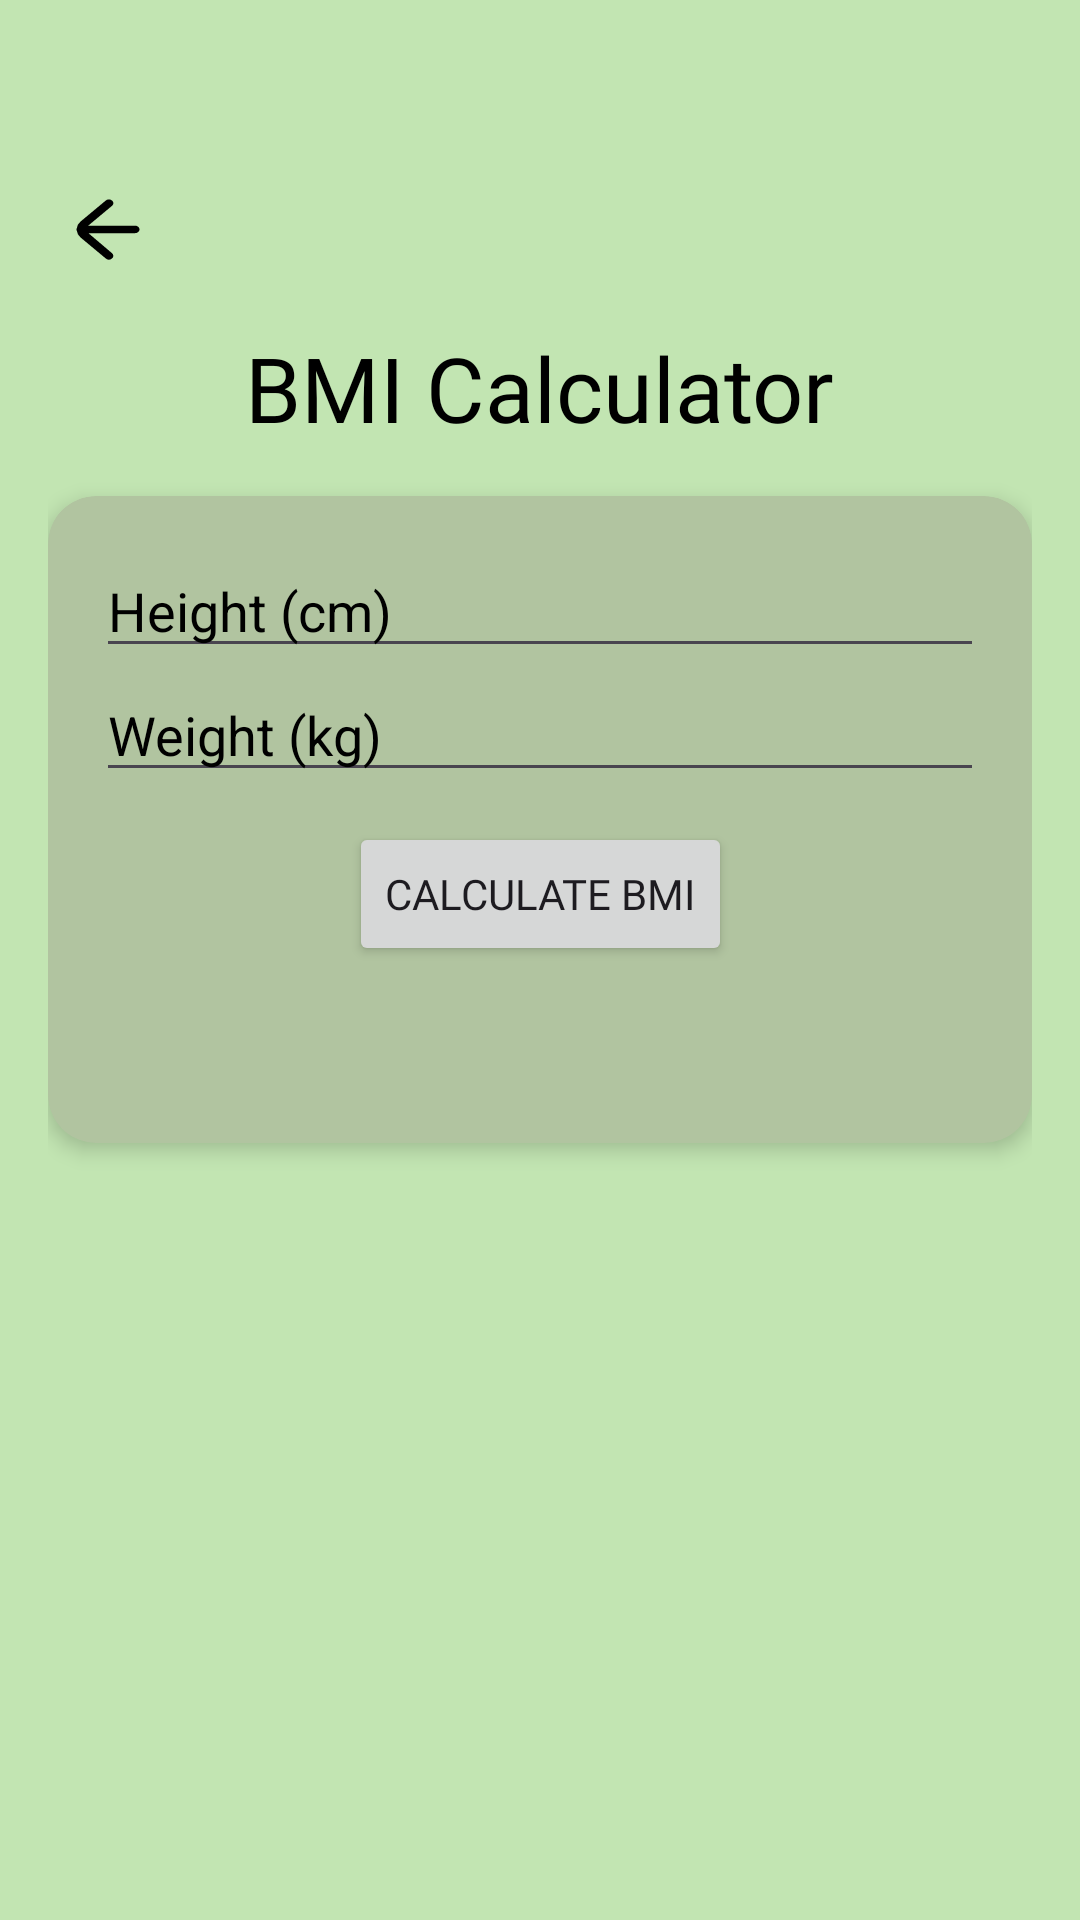

Icon bounding boxes for this 1080w x 1920h phone screenshot, format (x1, y1, x2, y2):
Back: (76, 199, 140, 260)
